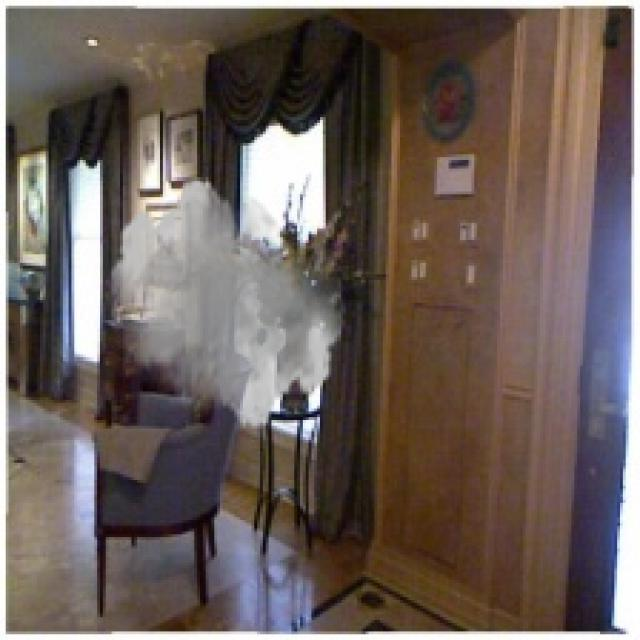smoke: (106, 175, 346, 432)
